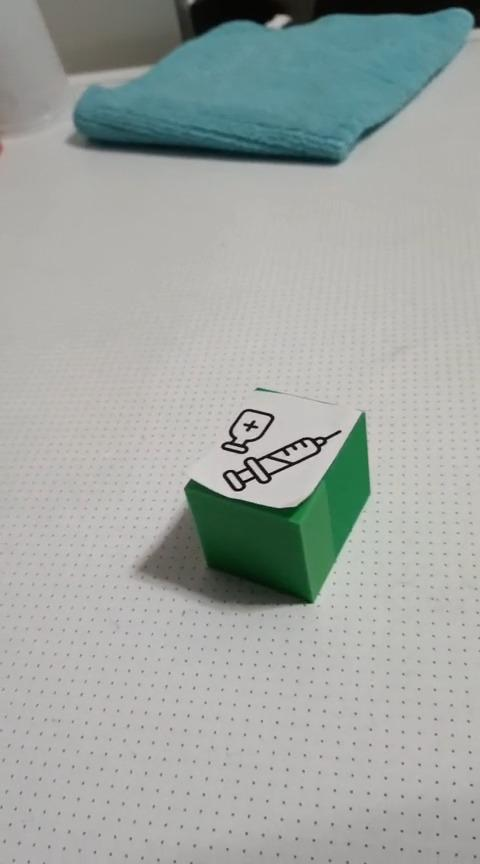antiseptic cream: (182, 384, 371, 603)
